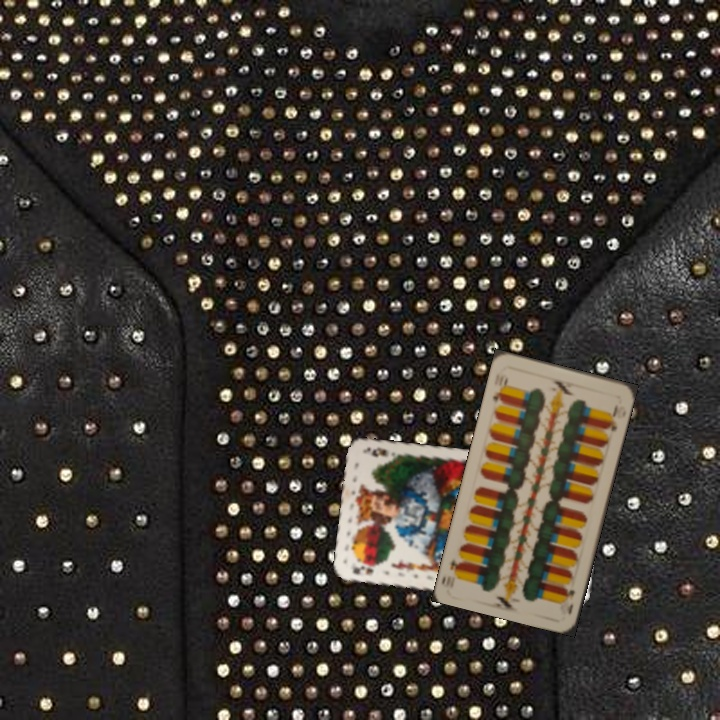E10: (489, 373, 510, 406), (562, 584, 577, 617)
SK: (349, 561, 376, 577)
